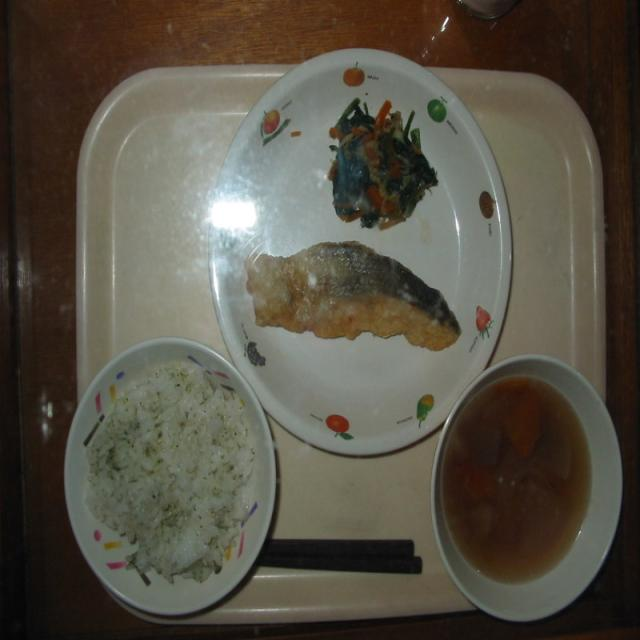炸货点心: (214, 220, 516, 464)
熟制海鲜: (214, 220, 516, 464)
米饭主食: (58, 326, 280, 616)
蔬菜料理: (436, 342, 632, 632)
